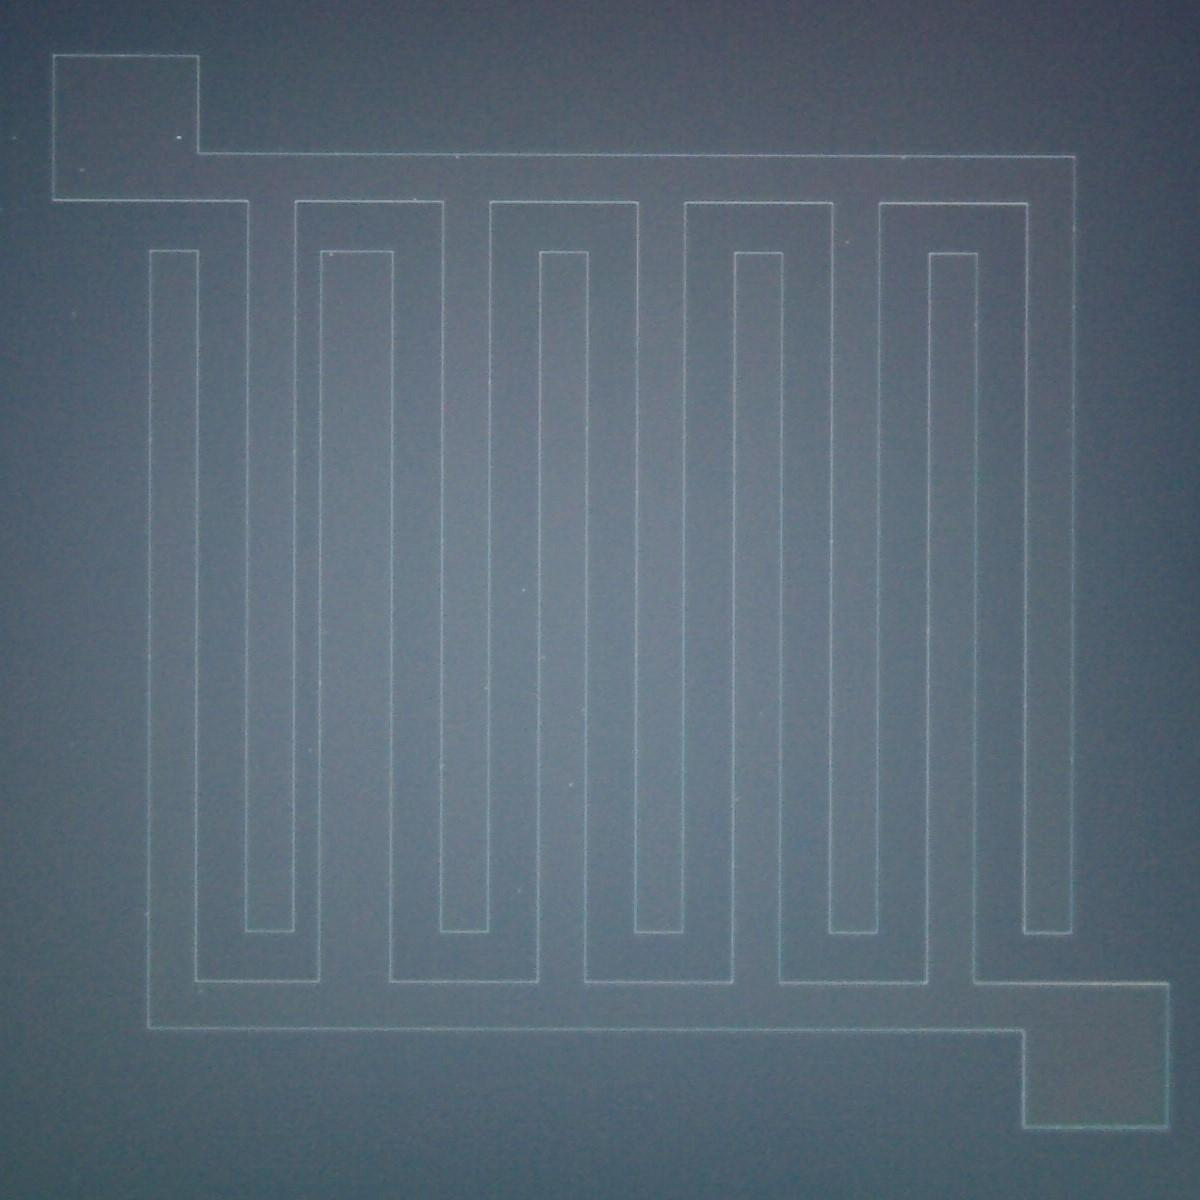s_point: (835, 229, 860, 256), (71, 160, 92, 180), (169, 127, 189, 147), (514, 580, 533, 600), (562, 776, 580, 795)
width: (218, 176, 515, 1009)
